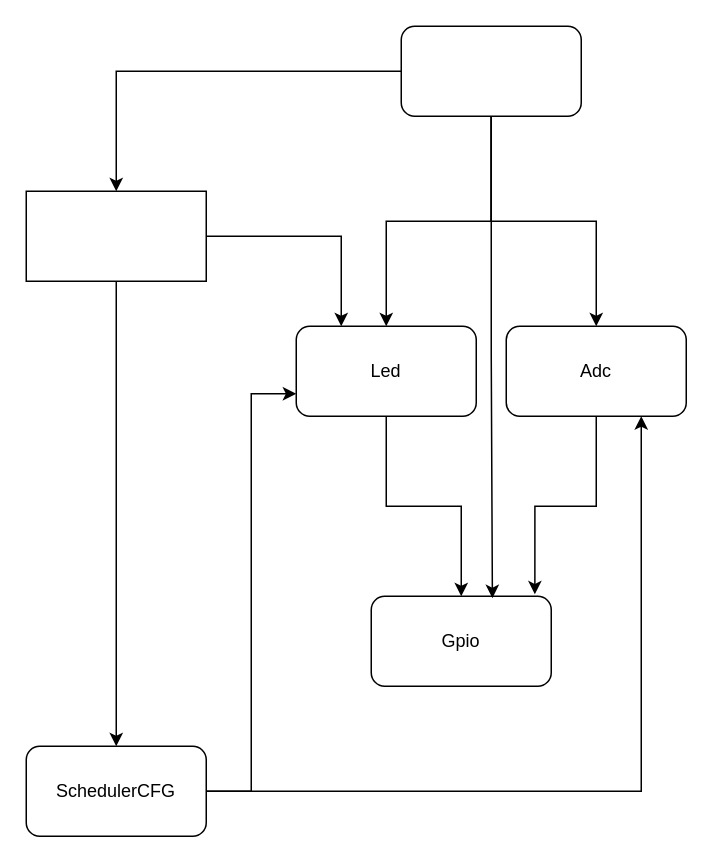
Image size: 713x863. Some labels were removed from this diagram. Here are the shapes that lost their labels. From the top down, the box of each, then its label:
(400, 25, 581, 116): AmbientLight
(25, 190, 206, 281): Scheduler
